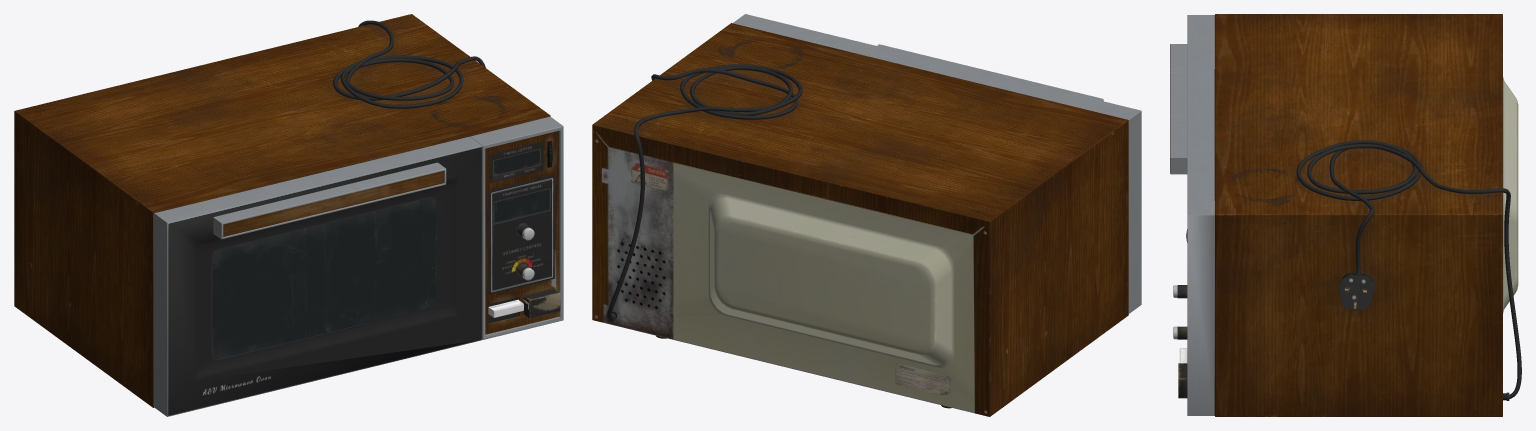
Rendered from vintage_microwave.glb.
3 renders of one model, left to right at view 1: azimuth 30°, elevation 25°; view 2: azimuth 150°, elevation 25°; view 3: azimuth 270°, elevation 25°, orthographic. The views are drawn at different scales.
Parts seen in each view (by area): view 1: vintage_microwave; view 2: vintage_microwave; view 3: vintage_microwave.
Part boxes in pixels (left/top/right/bottom): vintage_microwave: left=14, top=14, right=563, bottom=416; vintage_microwave: left=592, top=14, right=1141, bottom=416; vintage_microwave: left=1170, top=14, right=1521, bottom=416.
Size of the model in its own units: 1.07 by 0.5258 by 0.7456.
2 materials, 2 textured.
